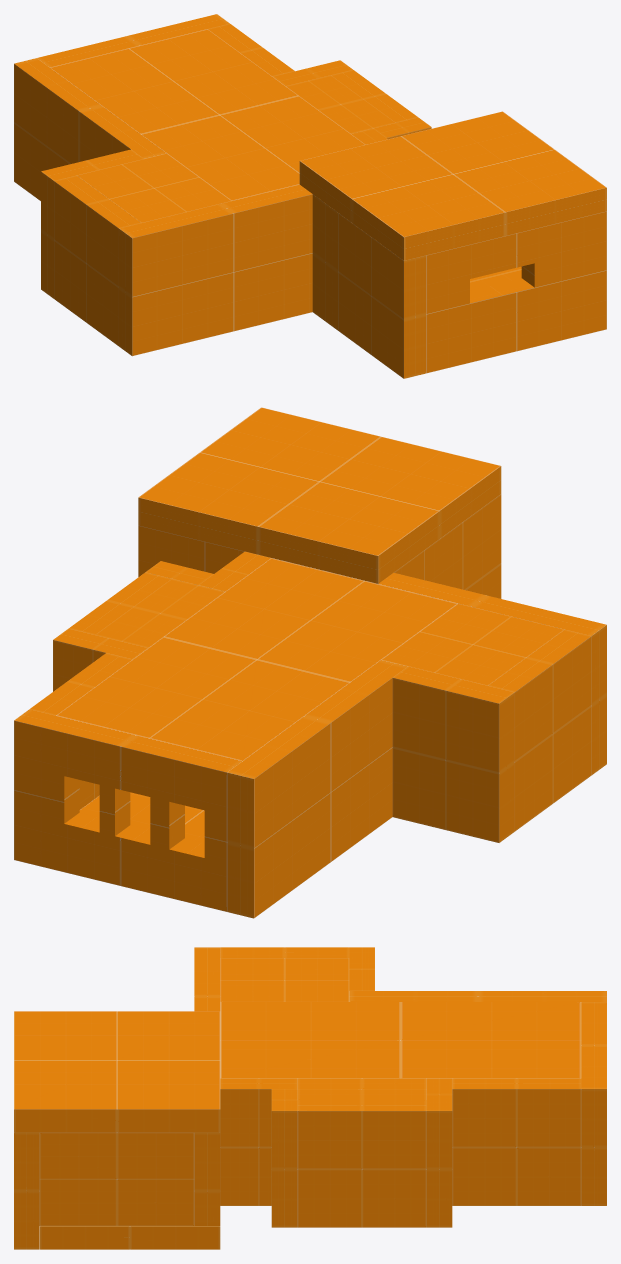
File: playerHomeFitted.glb
3 views of the same model, one above another, from view 1: azimuth 30°, elevation 25°; view 2: azimuth 150°, elevation 25°; view 3: azimuth 270°, elevation 25° (orthographic). The views are drawn at different scales.
Visible parts, largest first — view 1: playerHome; view 2: playerHome; view 3: playerHome.
Part boxes in pixels (box(x1,y1,x2,y2)): playerHome: box(14, 14, 606, 378); playerHome: box(14, 407, 606, 918); playerHome: box(14, 947, 606, 1249).
Size of the model in its own units: 17 by 6 by 23.
Materials: 1 (1 with a texture image).
